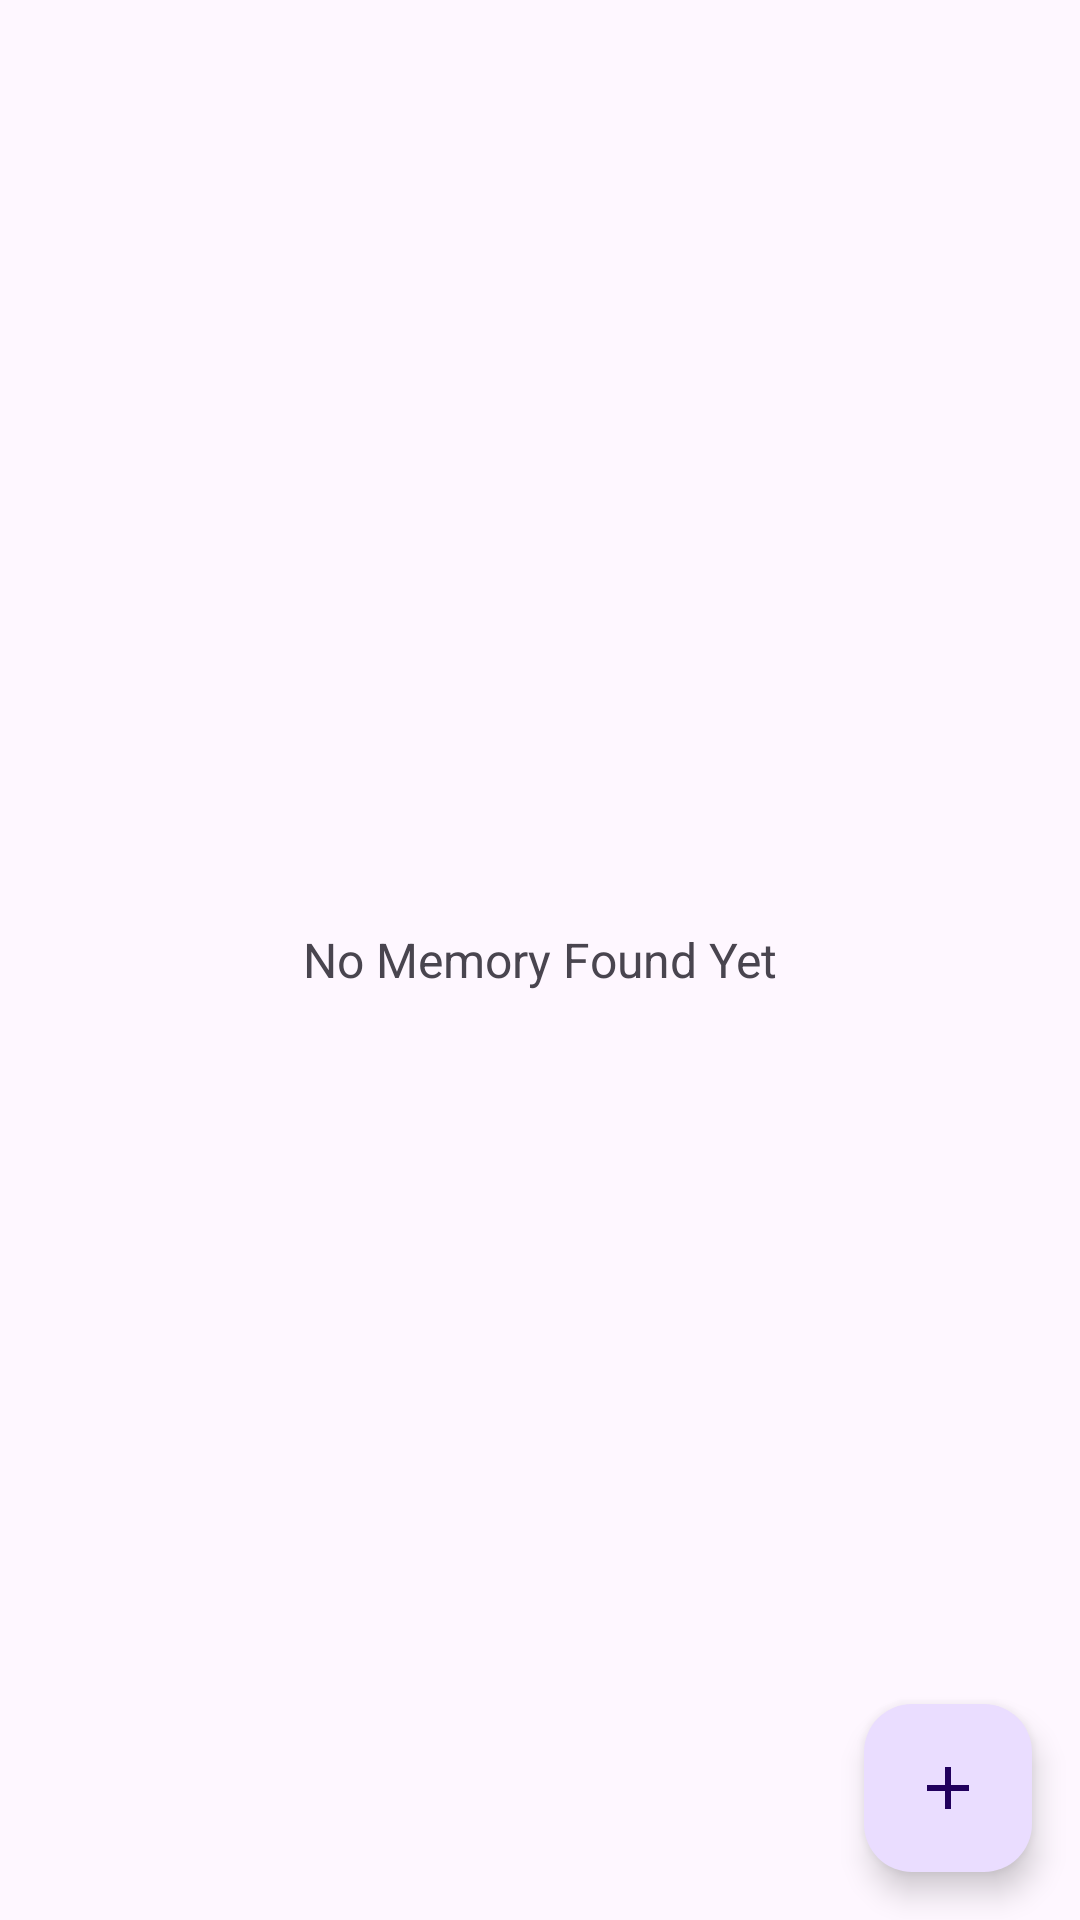

Screen size 1080px x 1920px. Icon name, then its center in pixels as (x,y):
Adding Places: (948,1788)
